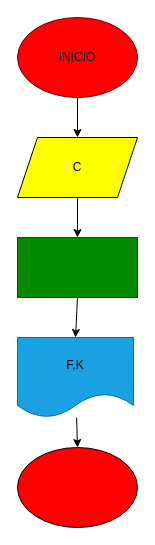
Some shapes in this 155 by 545 pixel diagram are drawn without their labels. The shapes that lost their labels are listed below. From the top down, each one's centre as x and y in pixels, then its label:
At [77,267]: "F:9/5C+32 K:273.1+C".
At [77,487]: "FIN".
